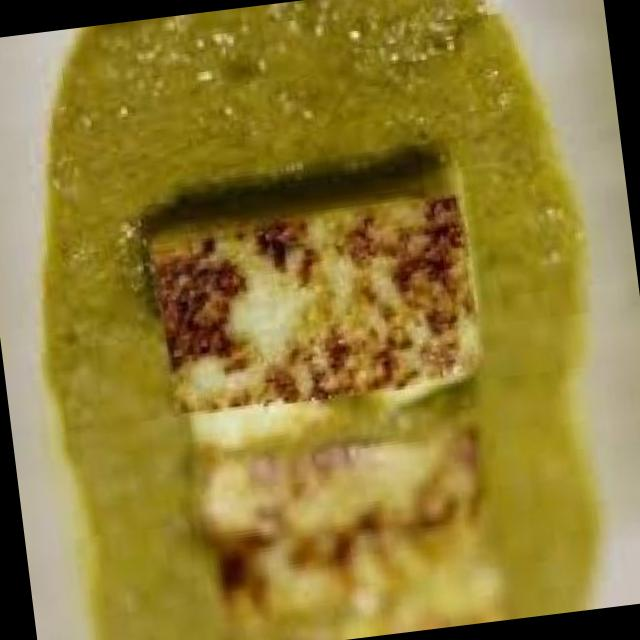palak_paneer: (1, 0, 630, 640)
